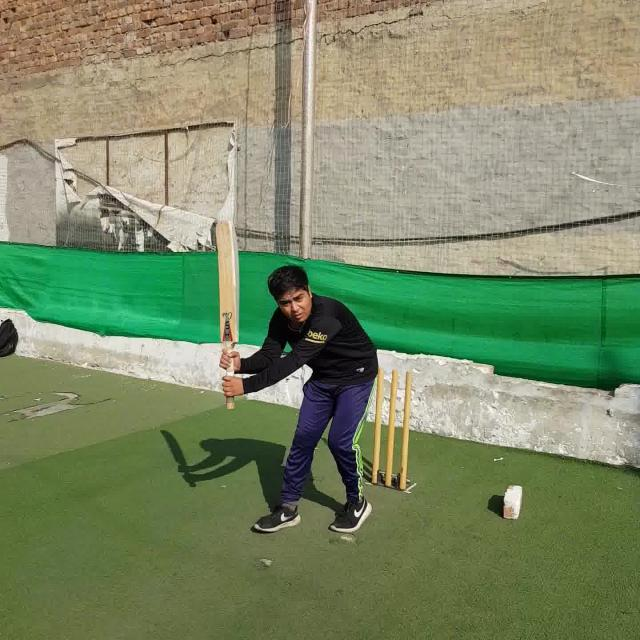bat: (215, 221, 240, 410)
